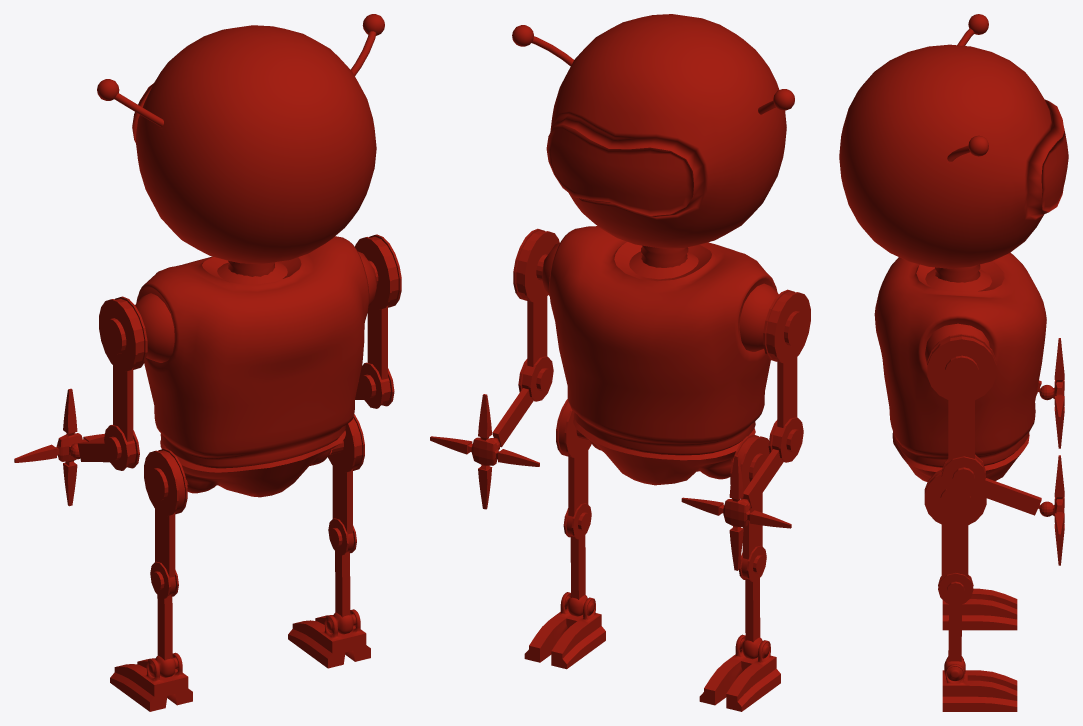
Rendered from RED.fbx.
3 renders of one model, left to right at view 1: azimuth 30°, elevation 25°; view 2: azimuth 150°, elevation 25°; view 3: azimuth 270°, elevation 25°, orthographic. The views are drawn at different scales.
Visible parts, largest first — view 1: Head001; view 2: Head001; view 3: Head001.
Boxes of the visible parts, box(x1,y1,x2,y2) form: Head001: box(14, 14, 401, 711); Head001: box(430, 14, 810, 711); Head001: box(839, 14, 1068, 711).
Size of the model in its own units: 89.48 by 51.66 by 150.
